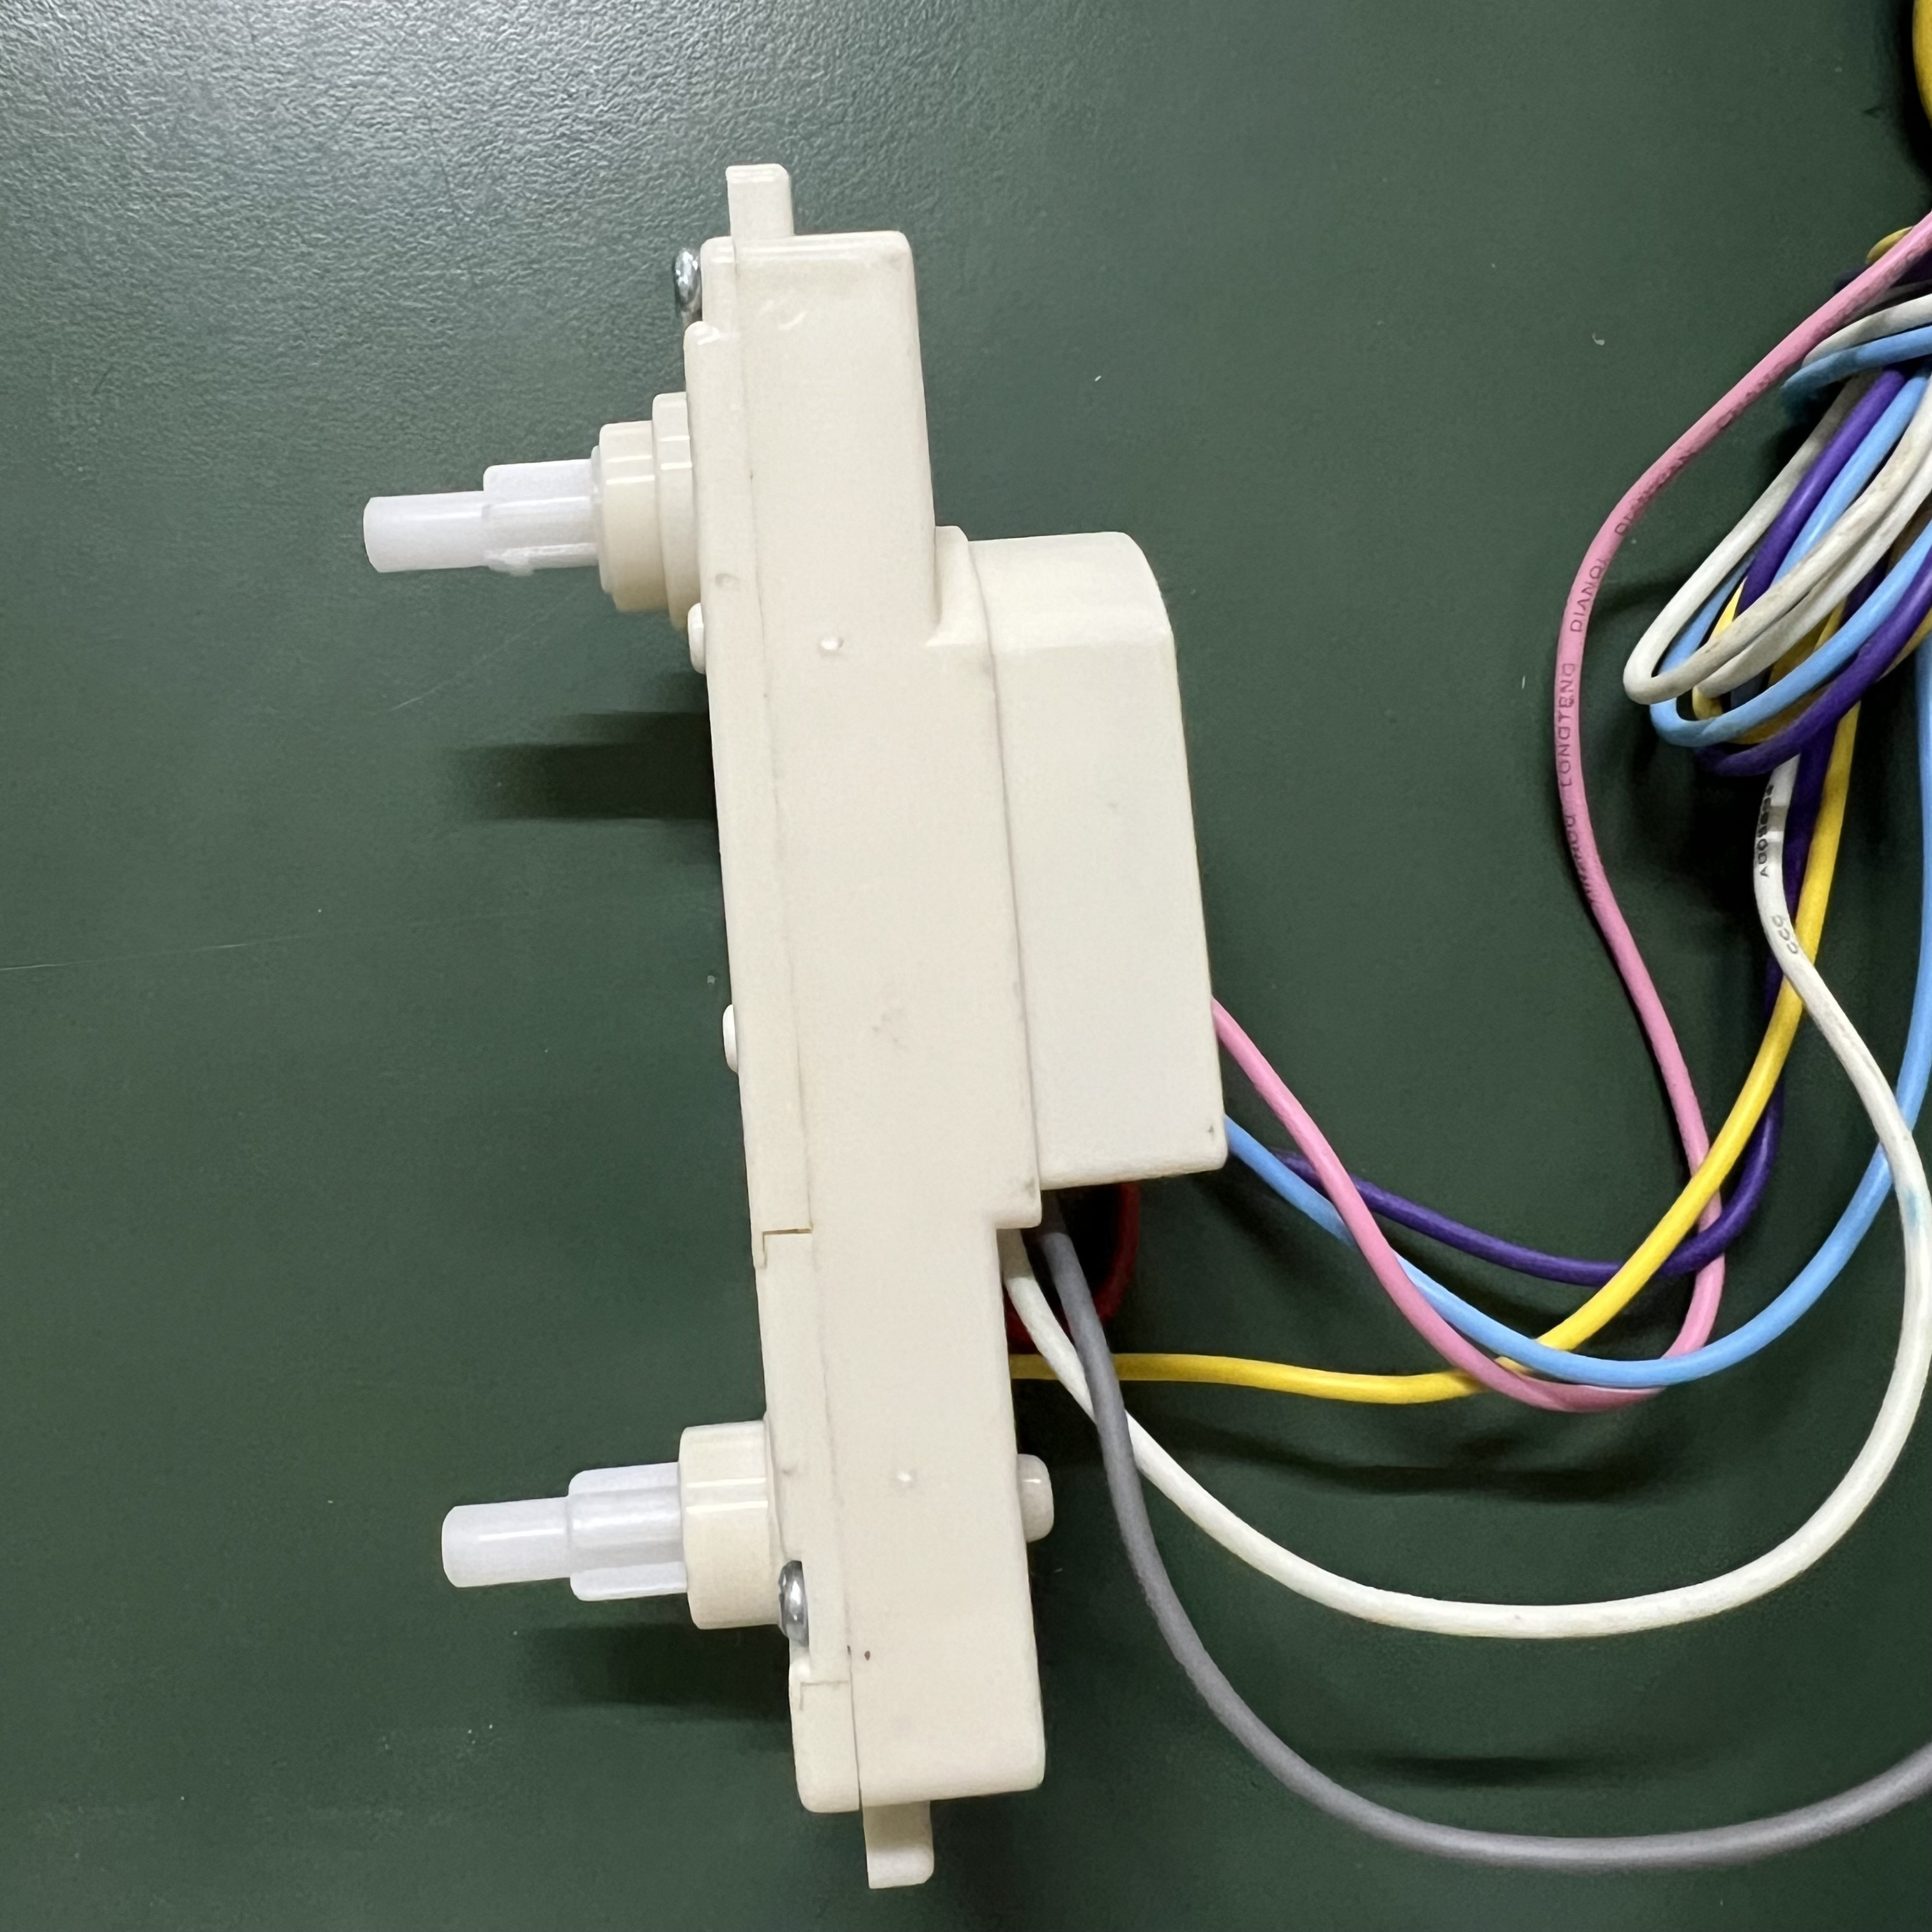rectangle_timer: (308, 143, 1261, 1932)
